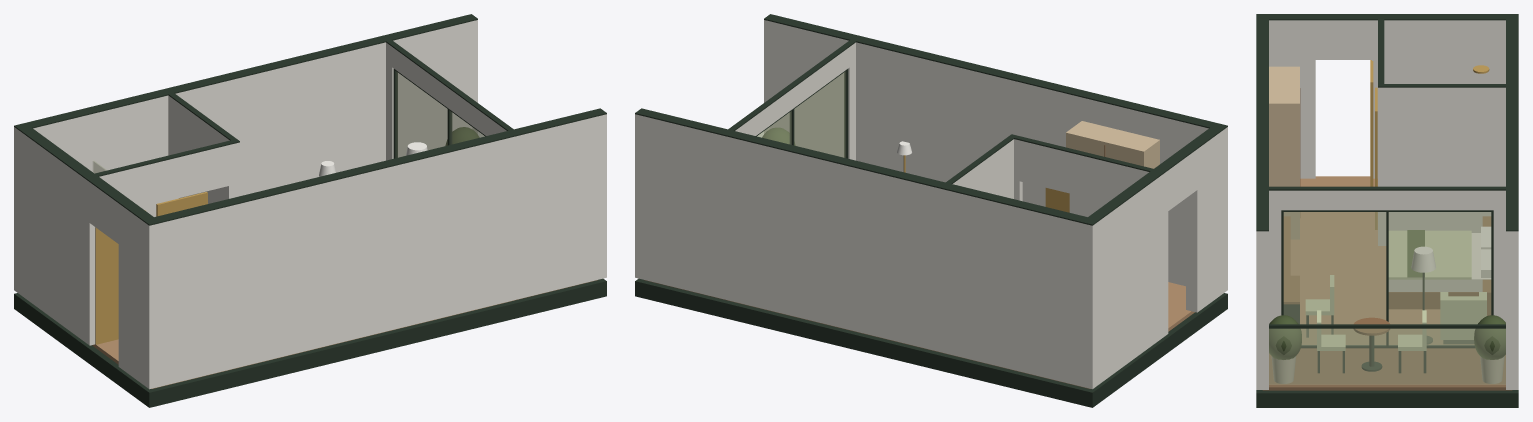
Rendered from phong-deluxe.glb.
3 views of the same model, side by side, from view 1: azimuth 30°, elevation 25°; view 2: azimuth 150°, elevation 25°; view 3: azimuth 270°, elevation 25° (orthographic). The views are drawn at different scales.
Visible parts, largest first — view 1: Phong Deluxe; view 2: Phong Deluxe; view 3: Phong Deluxe.
Boxes of the visible parts, x1,y1,x2,y2 form: Phong Deluxe: (14,14,606,407); Phong Deluxe: (635,14,1227,407); Phong Deluxe: (1256,14,1518,407).
Size of the model in its own units: 8.2 by 3.14 by 4.2.
